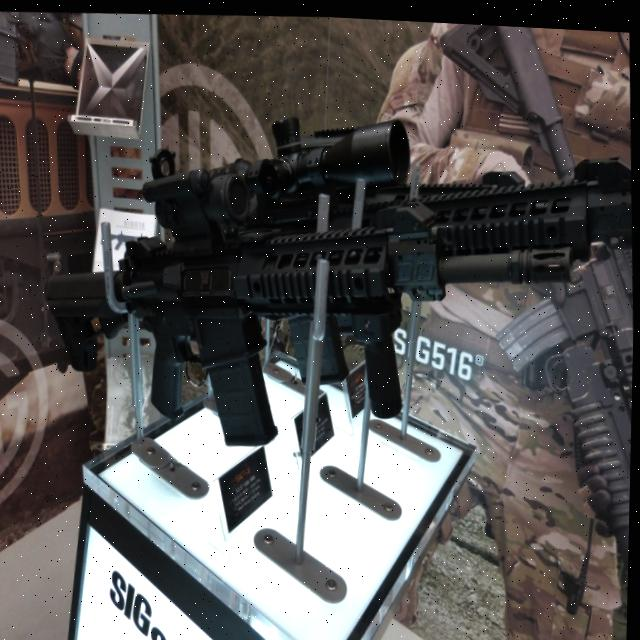firearm: (35, 124, 584, 467), (199, 95, 638, 431), (427, 18, 640, 579), (0, 8, 85, 90)
